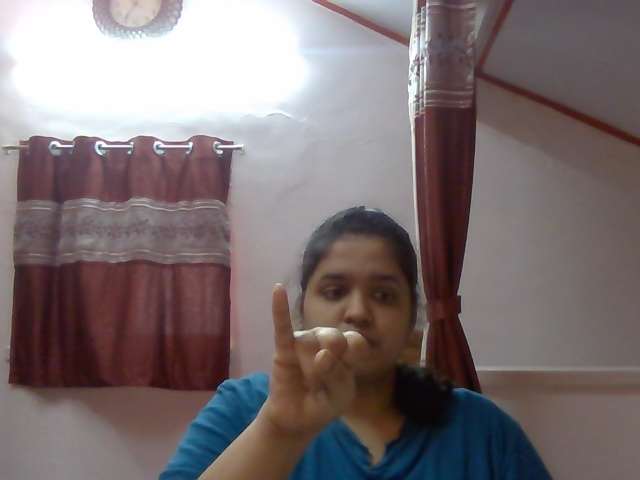i: (242, 271, 381, 435)
